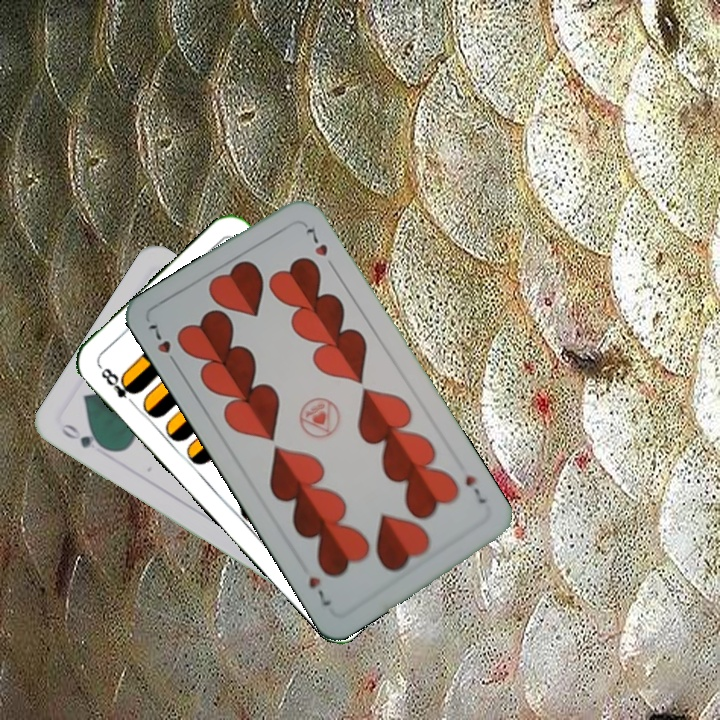E8: (95, 361, 141, 409)
GO: (57, 419, 112, 453)
H7: (144, 320, 182, 371), (461, 471, 489, 507)
